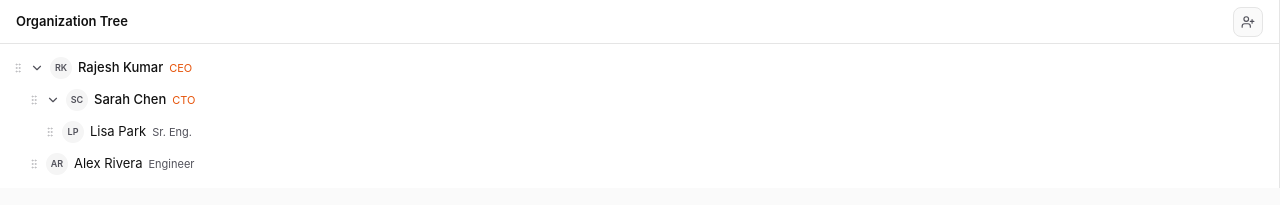
Scenario: InteractiveTree › toggles a node with children on click
Check: the text "Lisa Park" is shown, box [90,122,146,142]
# Click Sarah Chen to collapse
Click the text "Sarah Chen". click: (130, 100)
box: [94,90,166,110]
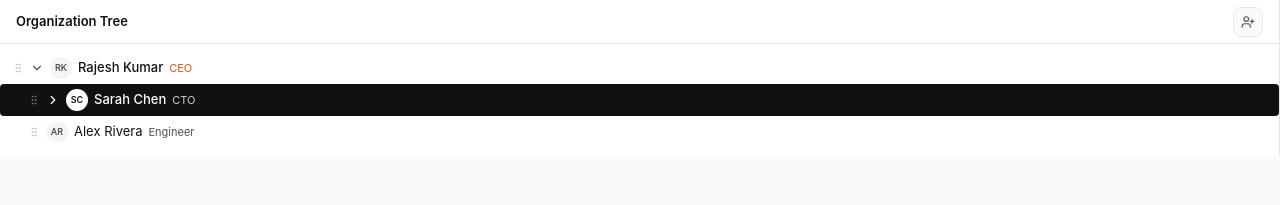
Check: the text "Lisa Park" is gone
# Click again to expand
Click the text "Sarah Chen". click: (130, 100)
box: [94,90,166,110]
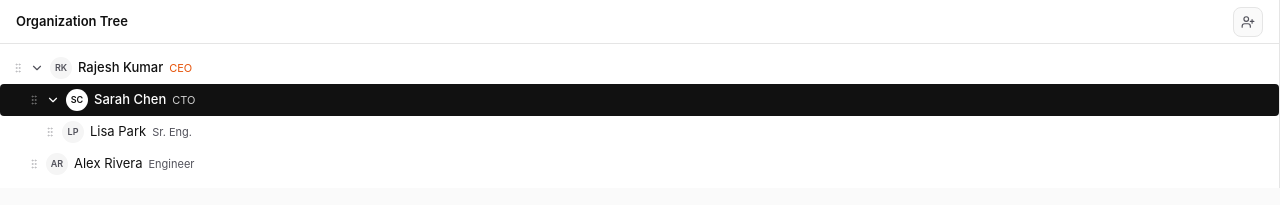
Check: the text "Lisa Park" is shown, box [90,122,146,142]
